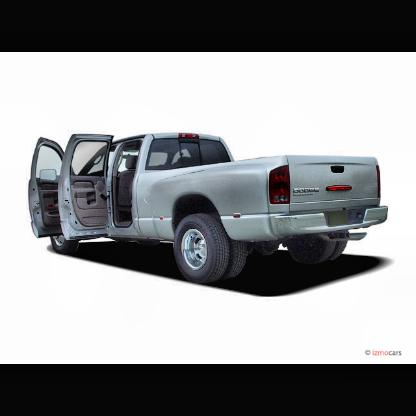Dodge Ram Pickup 3500 Quad Cab 2009: (27, 133, 391, 282)
